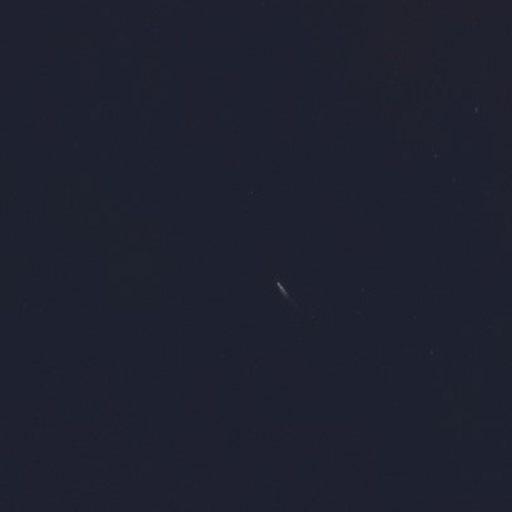ship: (274, 278, 289, 297)
